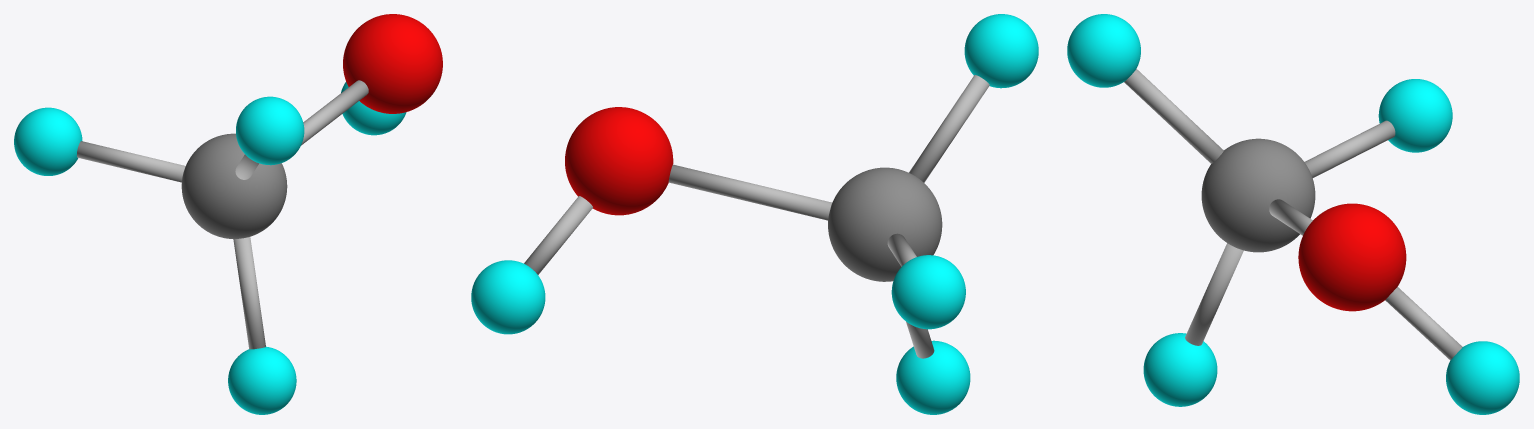
Rendered from methanol.glb.
3 views of the same model, side by side, from view 1: azimuth 30°, elevation 25°; view 2: azimuth 150°, elevation 25°; view 3: azimuth 270°, elevation 25° (orthographic). The views are drawn at different scales.
Parts seen in each view (by area): view 1: CMAtom_0; view 2: CMAtom_0; view 3: CMAtom_0.
Part boxes in pixels (x1,y1,x2,y2): CMAtom_0: (14, 14, 442, 414); CMAtom_0: (471, 14, 1038, 414); CMAtom_0: (1067, 14, 1519, 414).
Size of the model in its own units: 0.2806 by 0.2219 by 0.2451.
